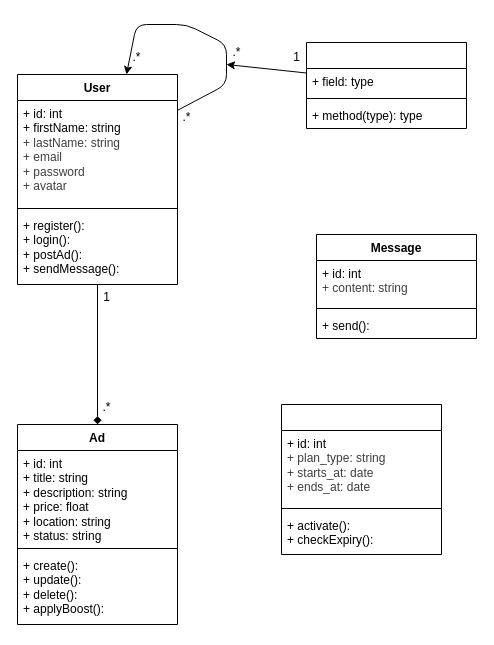
Image size: 494x645. Some labels were removed from this diagram. The shapes that lost their labels are listed below. From the top down, each one's box as (x1, y1, x2, y2) in pixels, then its label:
(306, 42, 466, 128): Conversation
(280, 404, 442, 554): Boost
